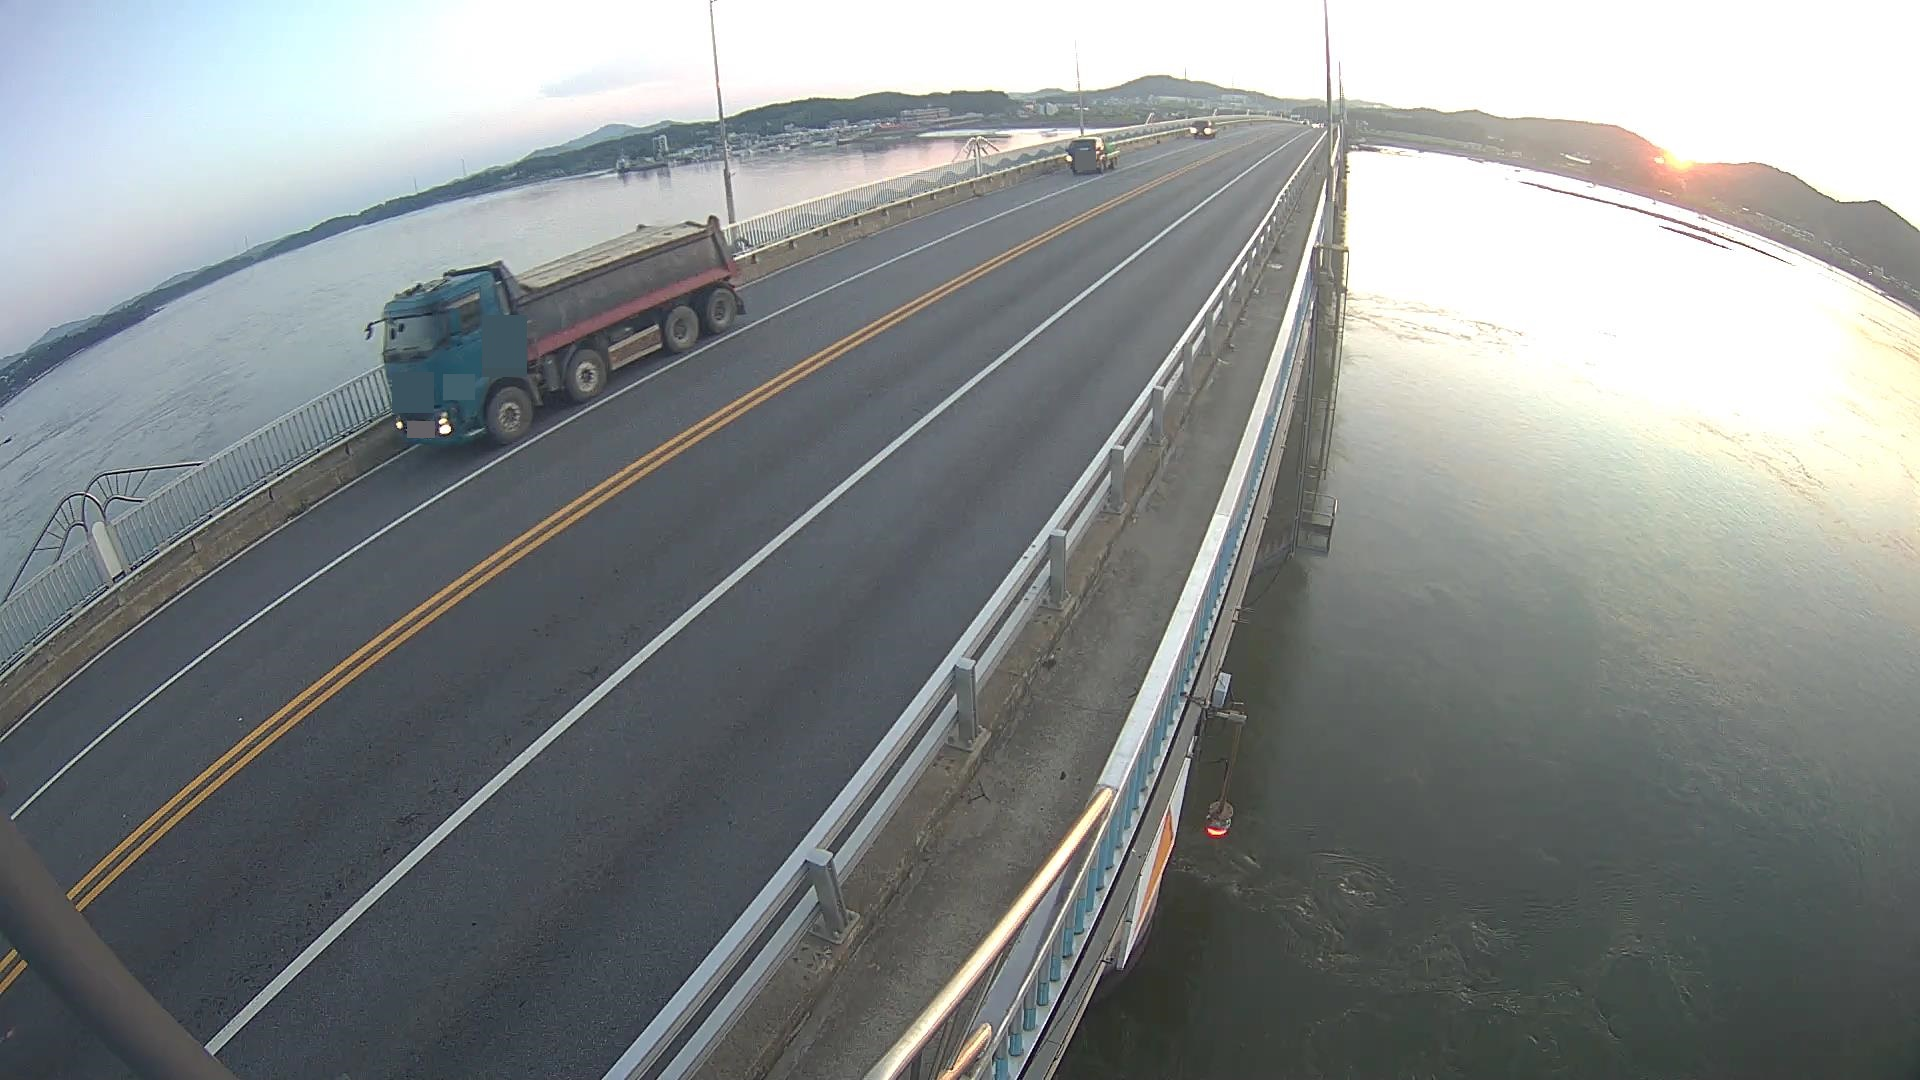정상차량: (364, 215, 749, 446)
